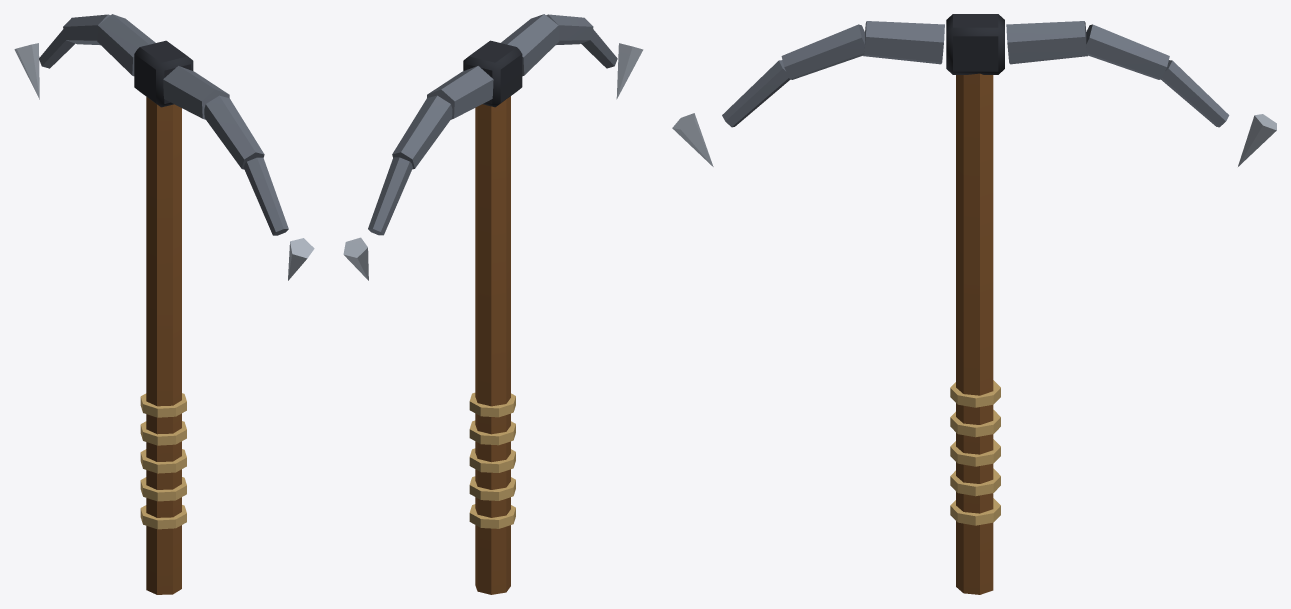
The model's file is item_pickaxe.glb.
3 renders of one model, left to right at view 1: azimuth 30°, elevation 25°; view 2: azimuth 150°, elevation 25°; view 3: azimuth 270°, elevation 25°, orthographic. The views are drawn at different scales.
Visible parts, largest first — view 1: item_pickaxe, item_pickaxe_detail; view 2: item_pickaxe, item_pickaxe_detail; view 3: item_pickaxe, item_pickaxe_detail.
Part boxes in pixels (box(x1,y1,x2,y2)): item_pickaxe: box(14, 14, 314, 594); item_pickaxe_detail: box(140, 393, 186, 529); item_pickaxe: box(343, 14, 643, 594); item_pickaxe_detail: box(469, 392, 515, 528); item_pickaxe: box(672, 14, 1276, 594); item_pickaxe_detail: box(950, 380, 1000, 525).
Bounding box in the file's own units: 0.078 × 0.96 × 0.9295.
